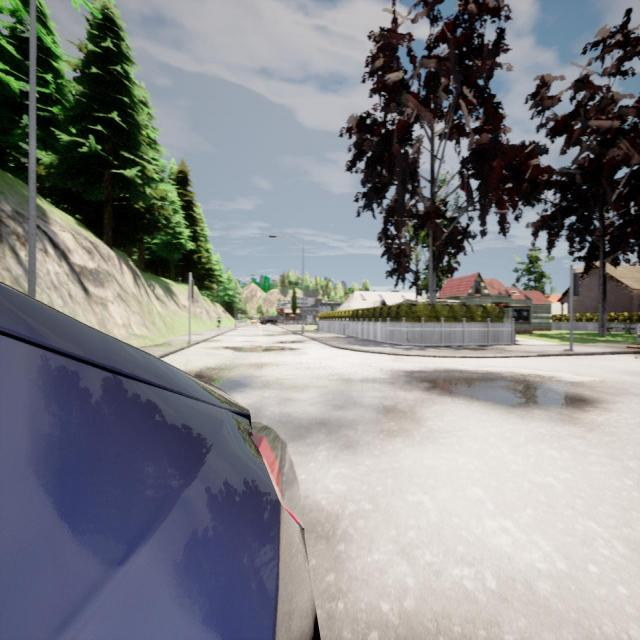Pedestrian: (216, 313, 222, 328)
Vehicle: (0, 285, 316, 640), (260, 315, 278, 326), (250, 318, 257, 324)
traffic_light: (572, 274, 580, 296), (190, 279, 194, 299)
